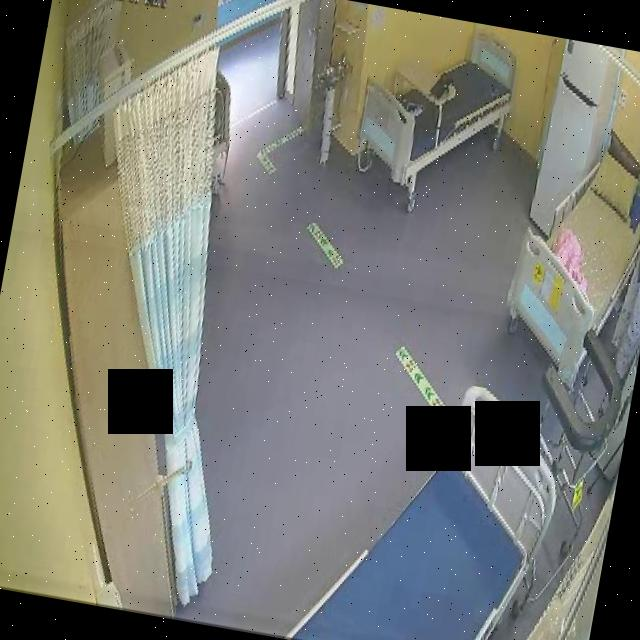bed: (287, 361, 573, 640), (493, 129, 640, 378), (348, 11, 526, 203)
